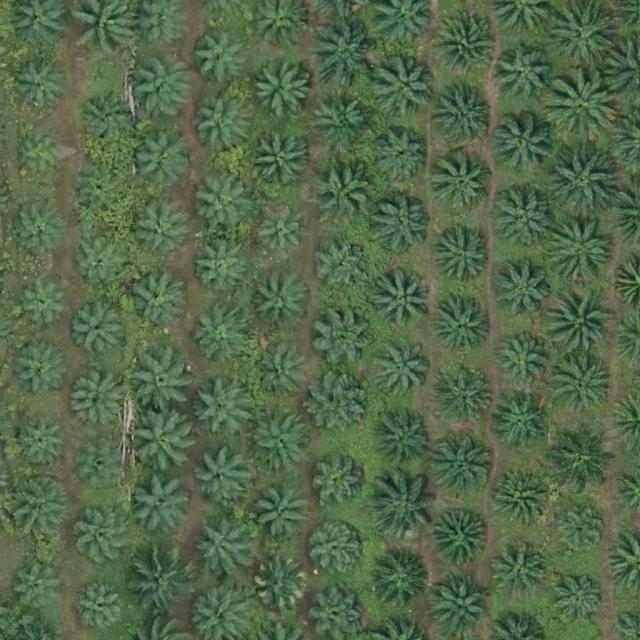Healthy: (370, 474, 441, 544), (127, 549, 197, 620), (127, 409, 197, 480), (549, 421, 619, 492), (548, 145, 618, 216), (547, 72, 617, 143), (307, 18, 377, 88), (548, 352, 618, 422), (545, 283, 615, 353), (549, 218, 619, 288), (370, 551, 433, 614), (134, 474, 197, 537), (5, 474, 68, 537), (79, 88, 142, 151), (134, 351, 197, 414), (190, 171, 253, 234), (249, 411, 312, 474), (310, 88, 373, 151), (312, 158, 375, 221), (310, 371, 373, 434), (370, 340, 433, 403), (432, 152, 495, 215), (492, 113, 555, 176), (489, 260, 552, 323), (488, 468, 550, 531), (430, 509, 492, 572), (430, 575, 493, 637), (10, 55, 73, 117), (131, 59, 193, 122), (125, 273, 187, 336), (250, 130, 312, 193), (251, 56, 313, 119), (312, 306, 374, 369), (374, 59, 437, 121), (369, 194, 431, 257), (375, 268, 437, 331), (373, 408, 435, 471), (432, 435, 494, 498), (436, 364, 498, 427), (431, 295, 493, 358), (433, 224, 495, 287), (437, 81, 500, 143), (433, 12, 495, 75), (494, 44, 556, 107), (491, 393, 553, 456), (191, 375, 253, 437), (492, 186, 554, 248), (73, 580, 128, 636), (556, 503, 611, 558), (549, 570, 604, 625), (494, 546, 549, 601), (193, 449, 248, 504), (193, 522, 248, 577), (78, 512, 133, 567), (11, 558, 66, 613), (19, 276, 74, 331), (76, 166, 131, 221), (73, 239, 128, 294), (133, 133, 188, 188), (131, 203, 186, 258), (194, 31, 249, 86), (194, 98, 249, 153), (192, 244, 247, 299), (252, 347, 307, 402), (256, 271, 311, 326), (315, 240, 370, 295), (374, 128, 429, 183), (495, 331, 550, 386), (252, 204, 306, 260), (312, 458, 366, 513), (310, 526, 364, 581), (253, 487, 307, 542), (15, 415, 69, 470), (15, 341, 69, 396), (12, 199, 66, 254), (73, 307, 127, 362), (71, 374, 125, 429), (191, 311, 245, 366)
Small: (18, 133, 65, 180), (80, 443, 127, 490)
Yellow: (253, 559, 308, 614)
